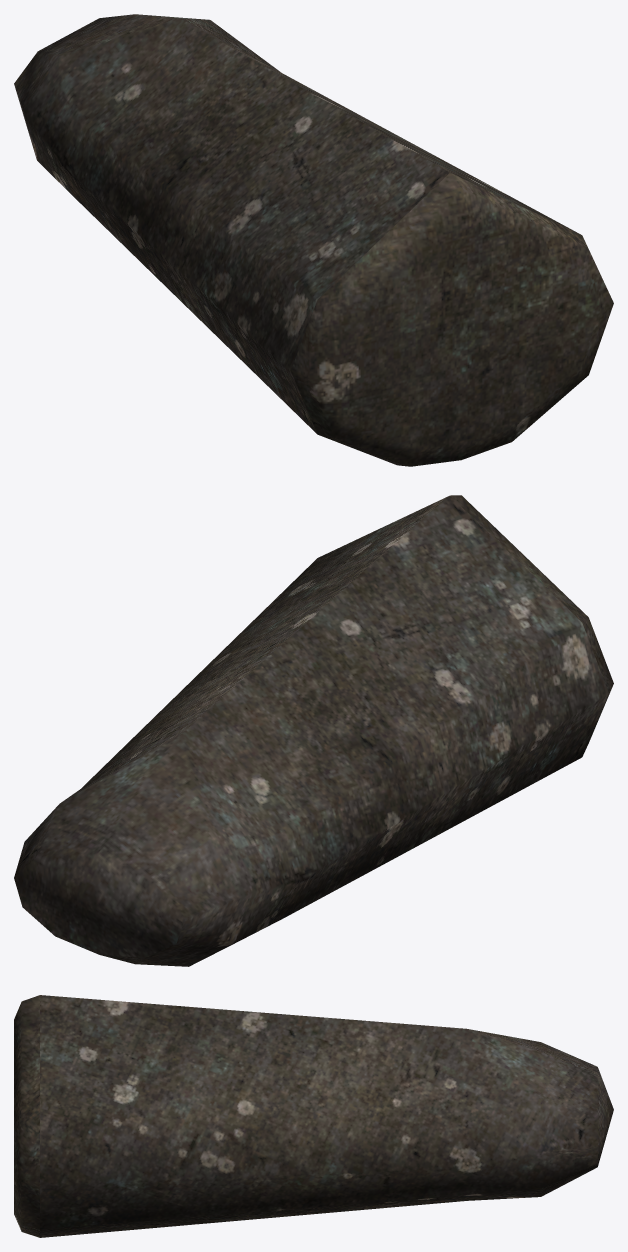
Rendered from large_end.dae.
3 views of the same model, one above another, from view 1: azimuth 30°, elevation 25°; view 2: azimuth 150°, elevation 25°; view 3: azimuth 270°, elevation 25° (orthographic). The views are drawn at different scales.
Visible parts, largest first — view 1: tentacle_end; view 2: tentacle_end; view 3: tentacle_end.
Part boxes in pixels (x1,y1,x2,y2): tentacle_end: (14, 14, 613, 466); tentacle_end: (14, 495, 613, 966); tentacle_end: (14, 995, 613, 1237).
Bounding box in the file's own units: 0.5519 × 0.4736 × 1.13.
